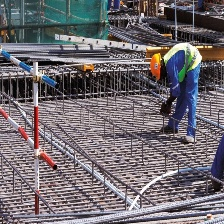helmet: (152, 52, 161, 82)
person: (151, 43, 205, 145)
vest: (163, 44, 204, 85)
